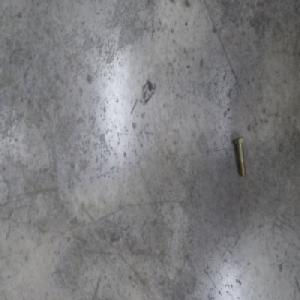Bolt: (233, 136, 246, 177)
